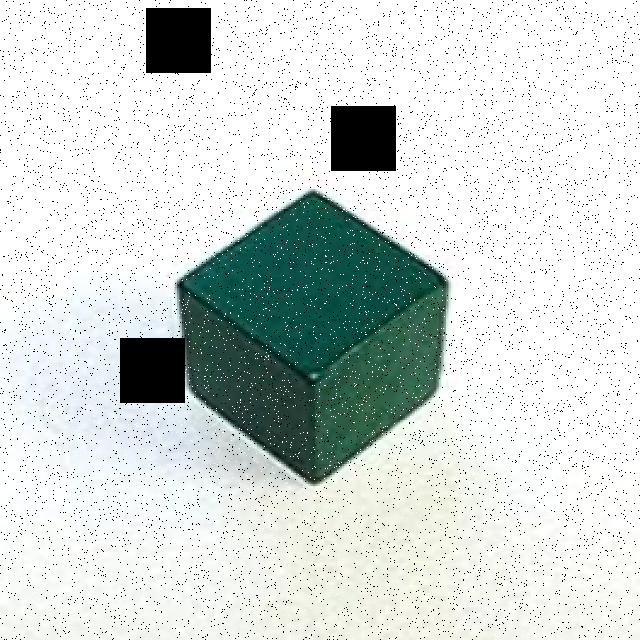green cube: (177, 189, 450, 485)
